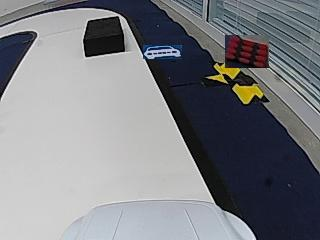block: (83, 16, 124, 57)
